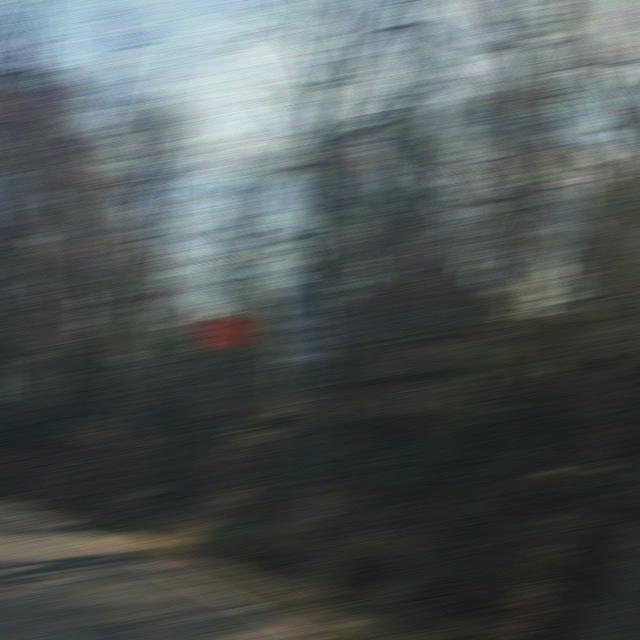speedLimit35: (276, 282, 331, 362)
